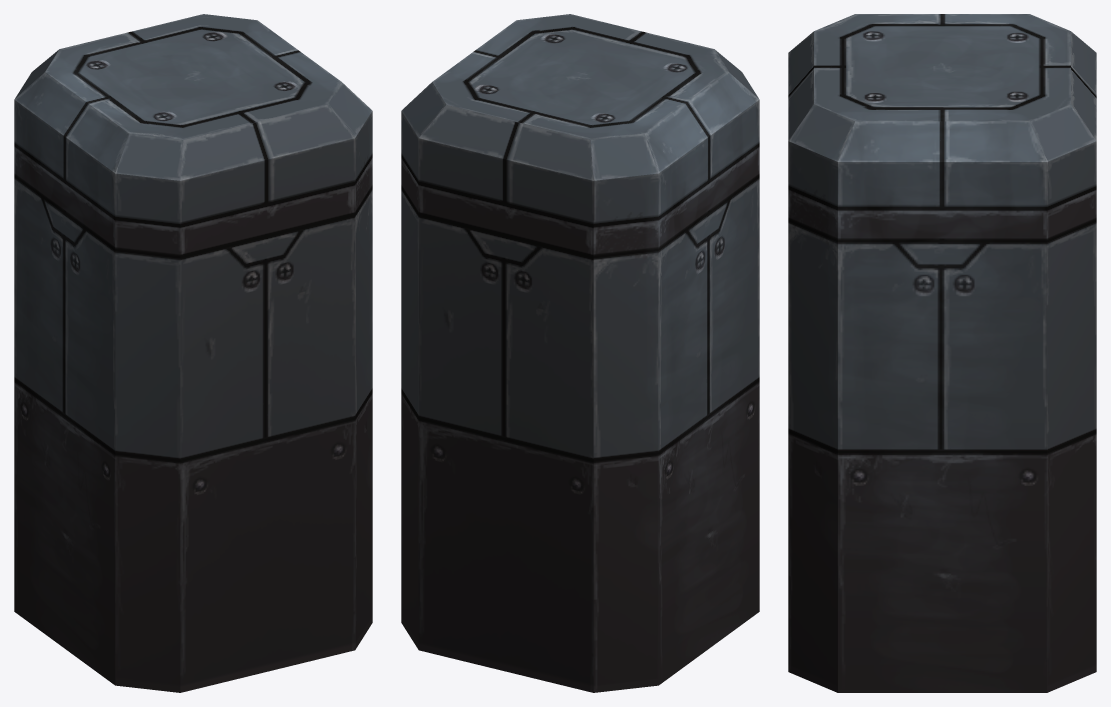
Rendered from Wall_sf_el1.fbx.
The picture shows the model from 3 angles, left to right: view 1: azimuth 30°, elevation 25°; view 2: azimuth 150°, elevation 25°; view 3: azimuth 270°, elevation 25°; orthographic projection. The views are drawn at different scales.
Parts seen in each view (by area): view 1: wall_sf2; view 2: wall_sf2; view 3: wall_sf2.
Boxes of the visible parts, x1,y1,x2,y2 form: wall_sf2: [14, 14, 372, 692]; wall_sf2: [401, 14, 759, 692]; wall_sf2: [788, 14, 1096, 692].
Bounding box in the file's own units: 0.8881 × 1.78 × 0.8881.
1 material, 1 textured.
